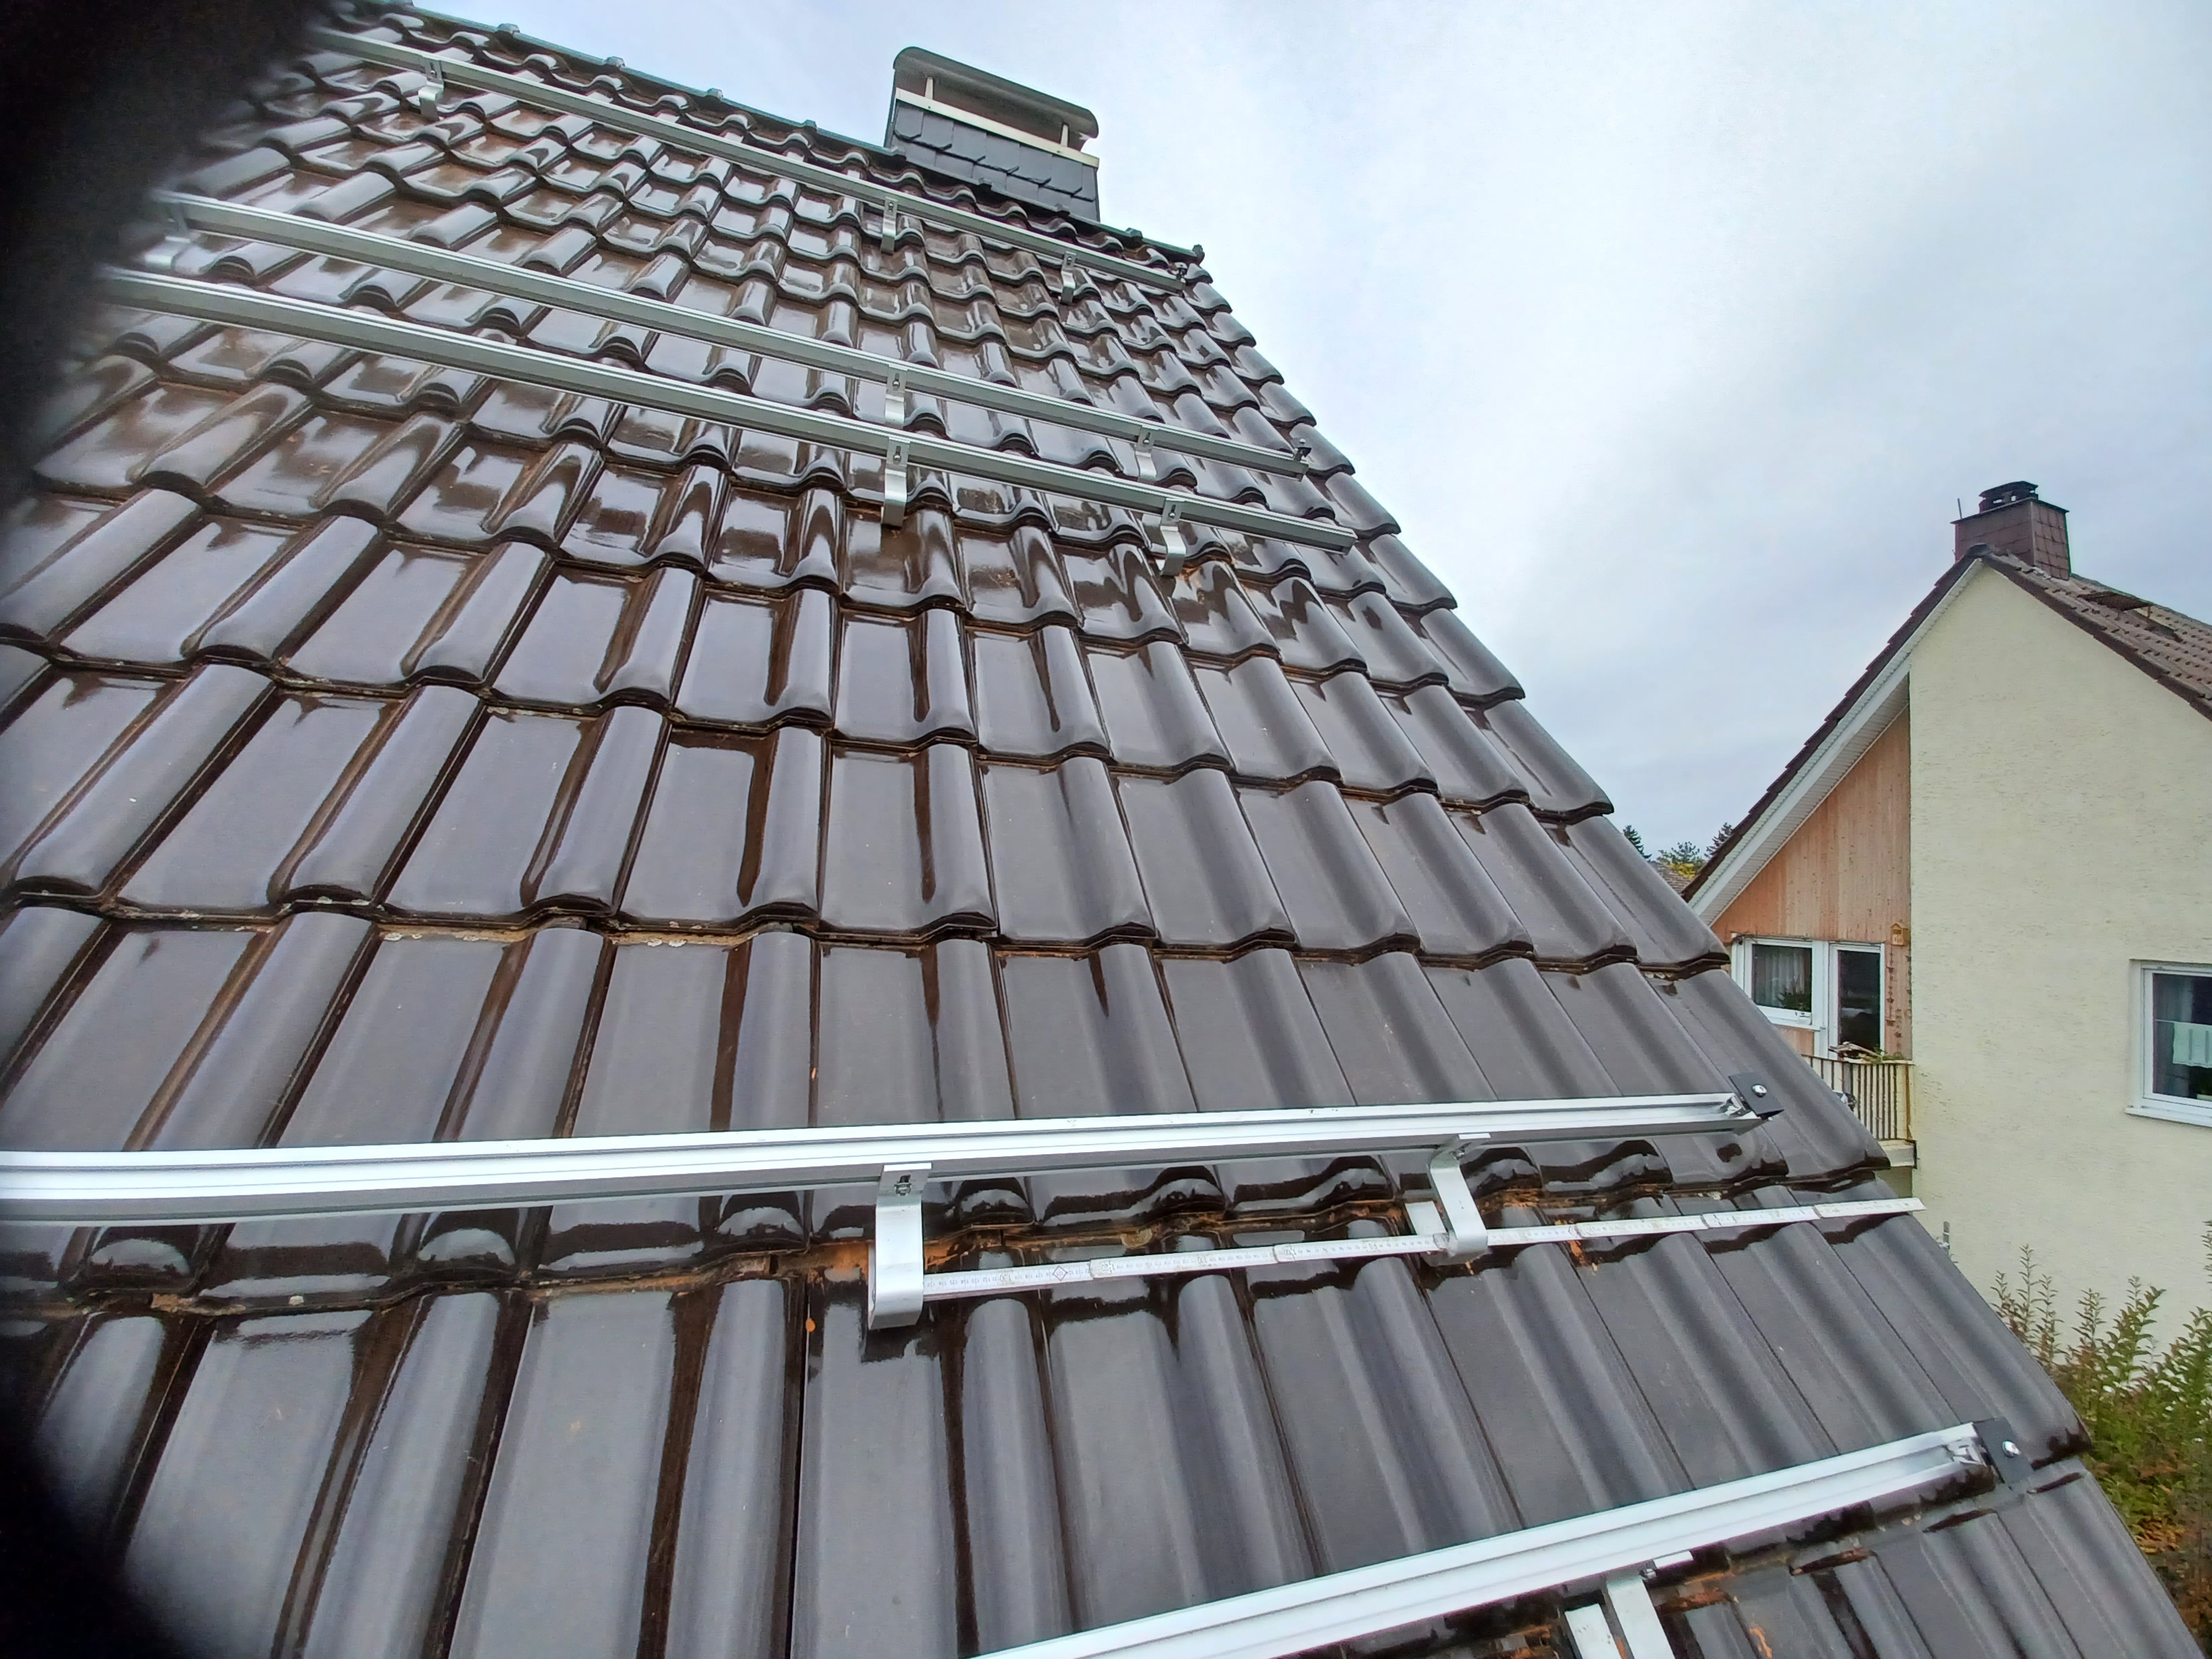hook: (1559, 1549, 1693, 1659), (1402, 1133, 1487, 1267), (866, 1162, 932, 1331), (143, 199, 190, 274), (881, 436, 911, 528), (1153, 498, 1186, 577), (418, 56, 446, 120), (883, 364, 907, 430), (1134, 423, 1157, 484), (880, 197, 899, 254), (1057, 251, 1076, 305)
